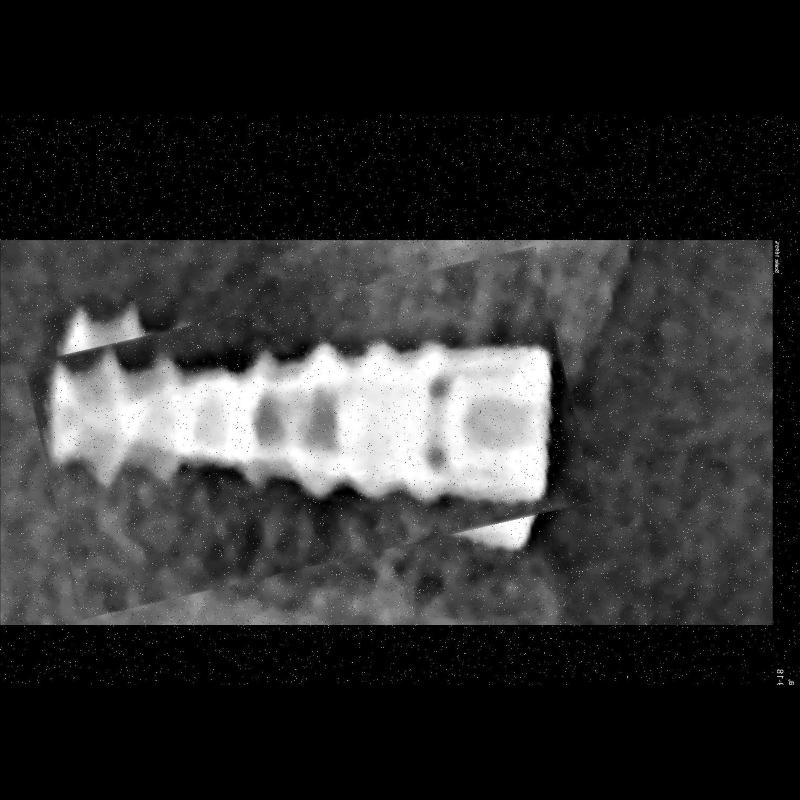NORIS: (35, 274, 583, 592)
